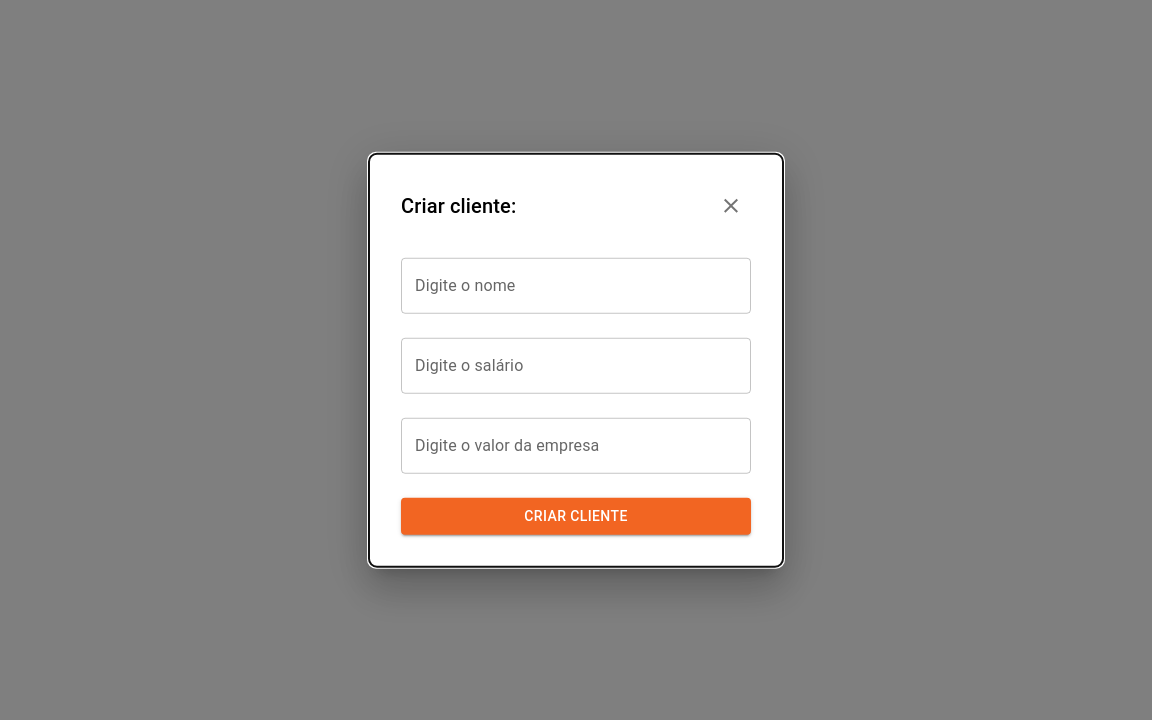
ClientModal › mostra erros ao tentar enviar sem preencher os campos
Click the button "Criar cliente". click: (576,516)
box: x1=401 y1=498 x2=751 y2=534
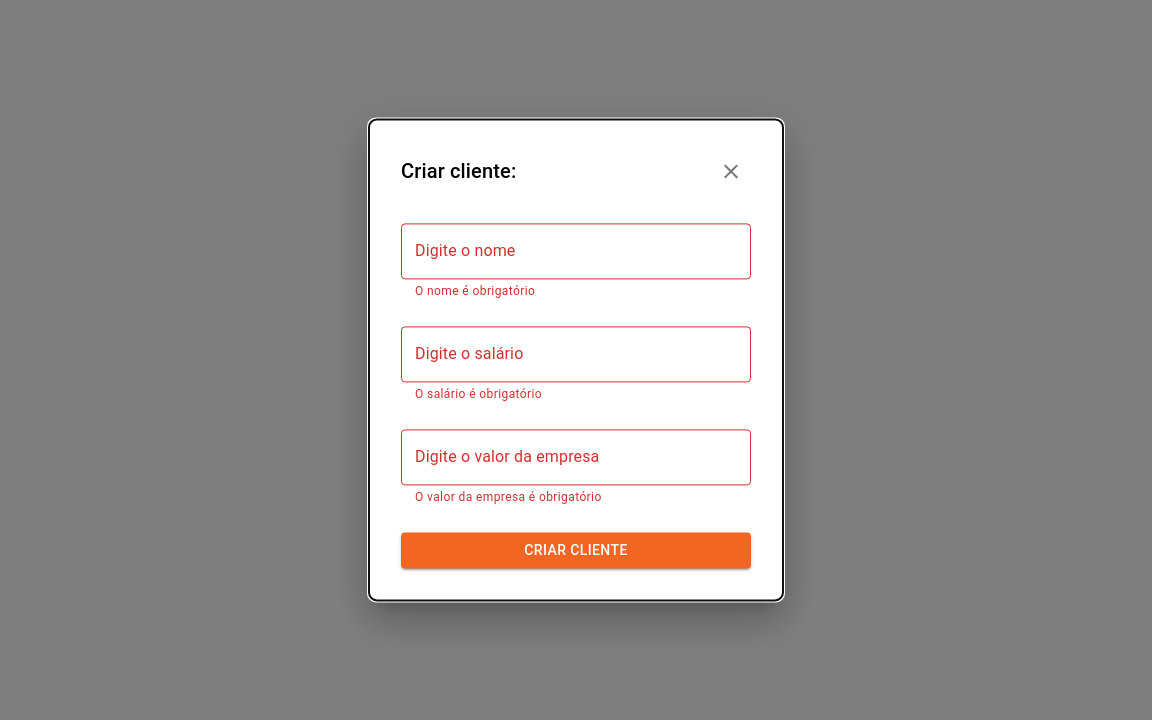
Now the text "O nome é obrigatório" is shown, box x1=415 y1=284 x2=535 y2=298
Now the text "O salário é obrigatório" is shown, box x1=415 y1=387 x2=542 y2=401
Now the text "O valor da empresa é obrigatório" is shown, box x1=415 y1=490 x2=602 y2=504
